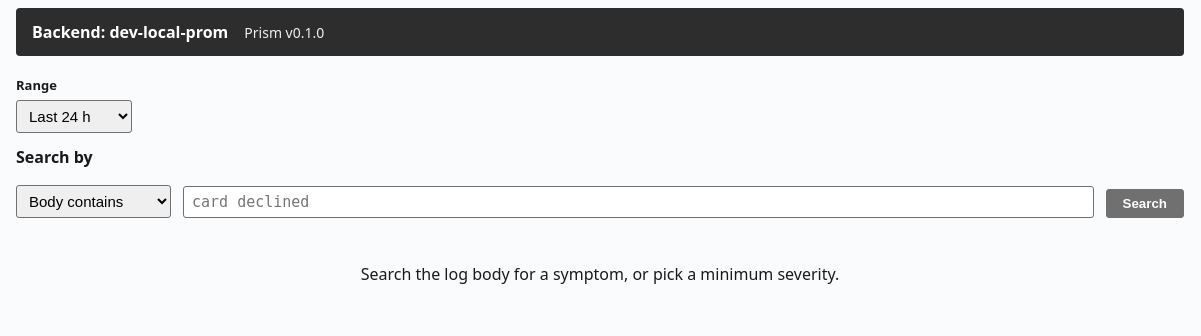
Test: Slice 08 logs outcome arms — the page never blanks › renders a transport-error banner naming the backend when the logs fetch fails
The width and height of the screenshot is (1201, 336).
Type "boom" into the field with test id "log-body-input" at (638, 202), box [183,186,1094,218]
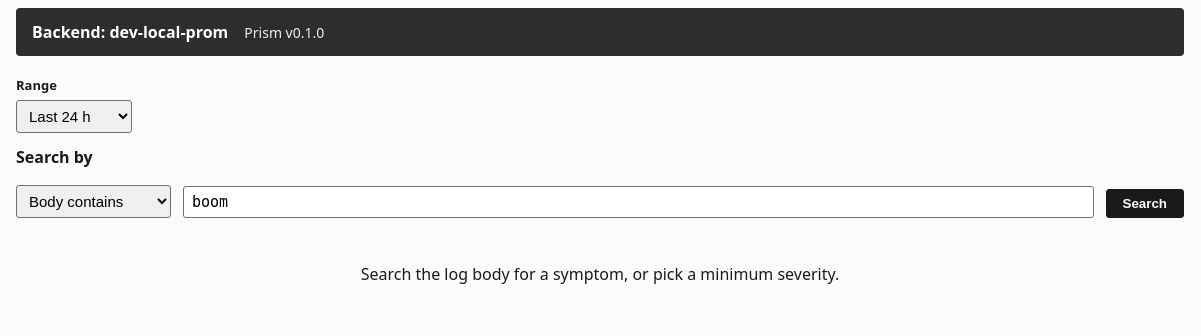
Click the button with test id "log-run-button" at (1145, 203), box [1106,188,1184,218]
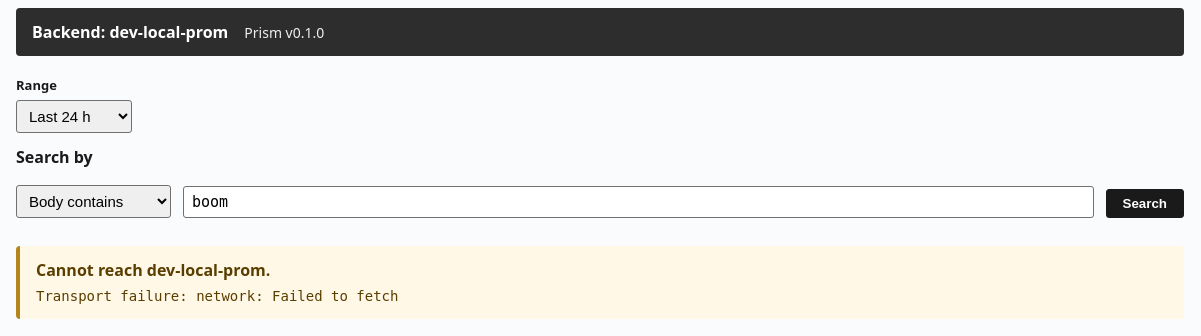
expect the message with test id "logs-transport-error-banner" shows "dev-local-prom": met, box [147,258,266,280]
